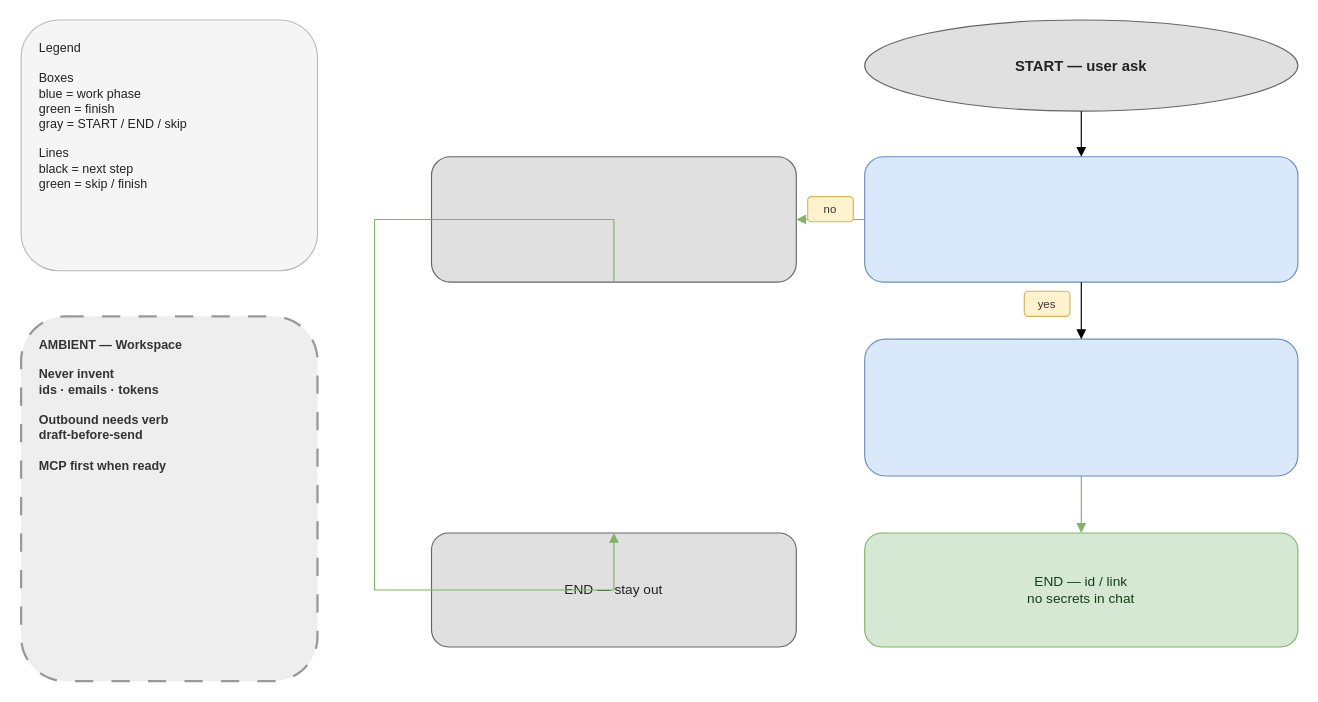
This 1318x702 diagram has some shape labels left out. The shapes that lost their labels are listed below. From the top down, each one's centre as x and y in pixels, then its label:
(613,219): skip — no Google ordinary coding; do not touch mailbox for sport
(1081,219): gate · Workspace? Gmail / Drive / Calendar / Docs / Sheets ask
(1081,407): route + act gmail · drive · calendar · docs/sheets rules
